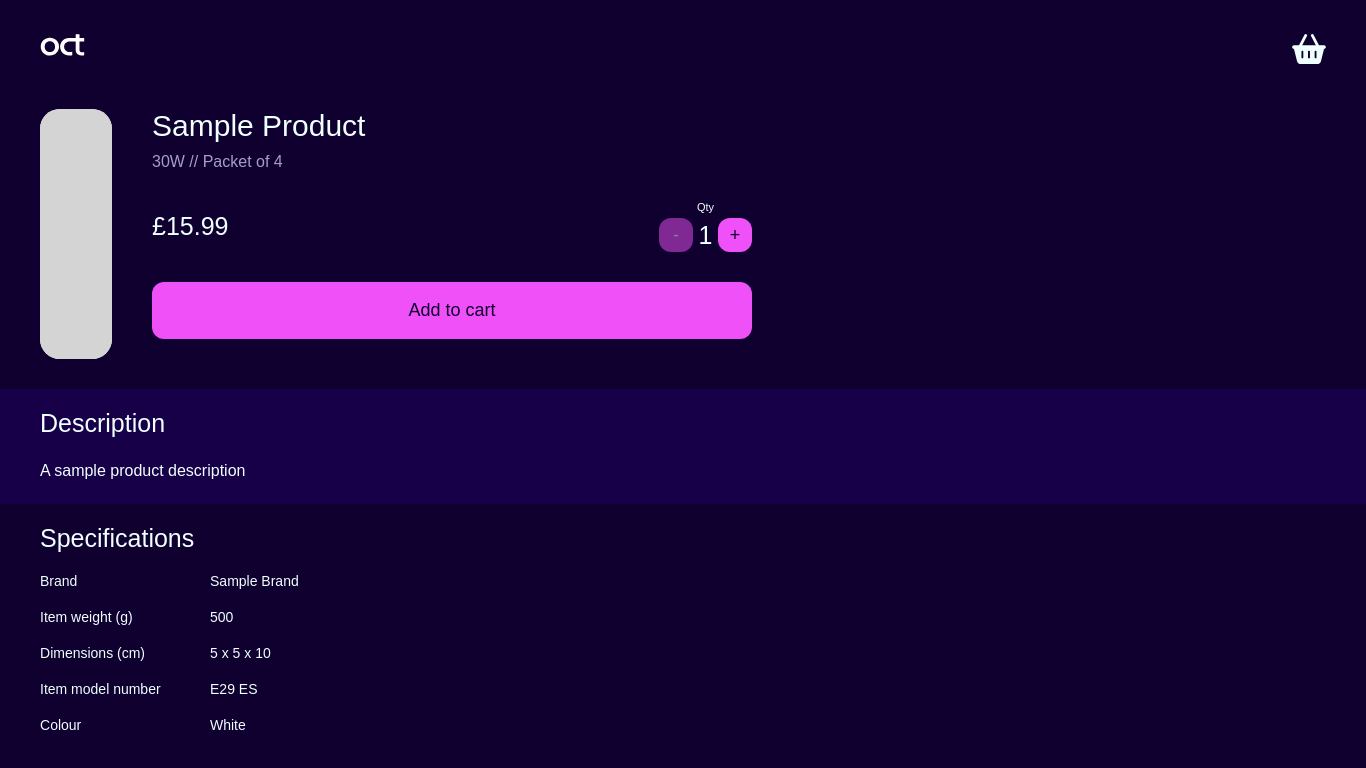
Test: ProductPage test cases › should be able to increase and decrease product quantity
Check: the heading "Sample Product" is shown, box [152,109,366,142]
Check: the text with test id "current-quantity" reads "1", box [698,220,712,248]
Click the button with test id "increase-quantity".
click(735, 235)  # box [718,218,752,252]
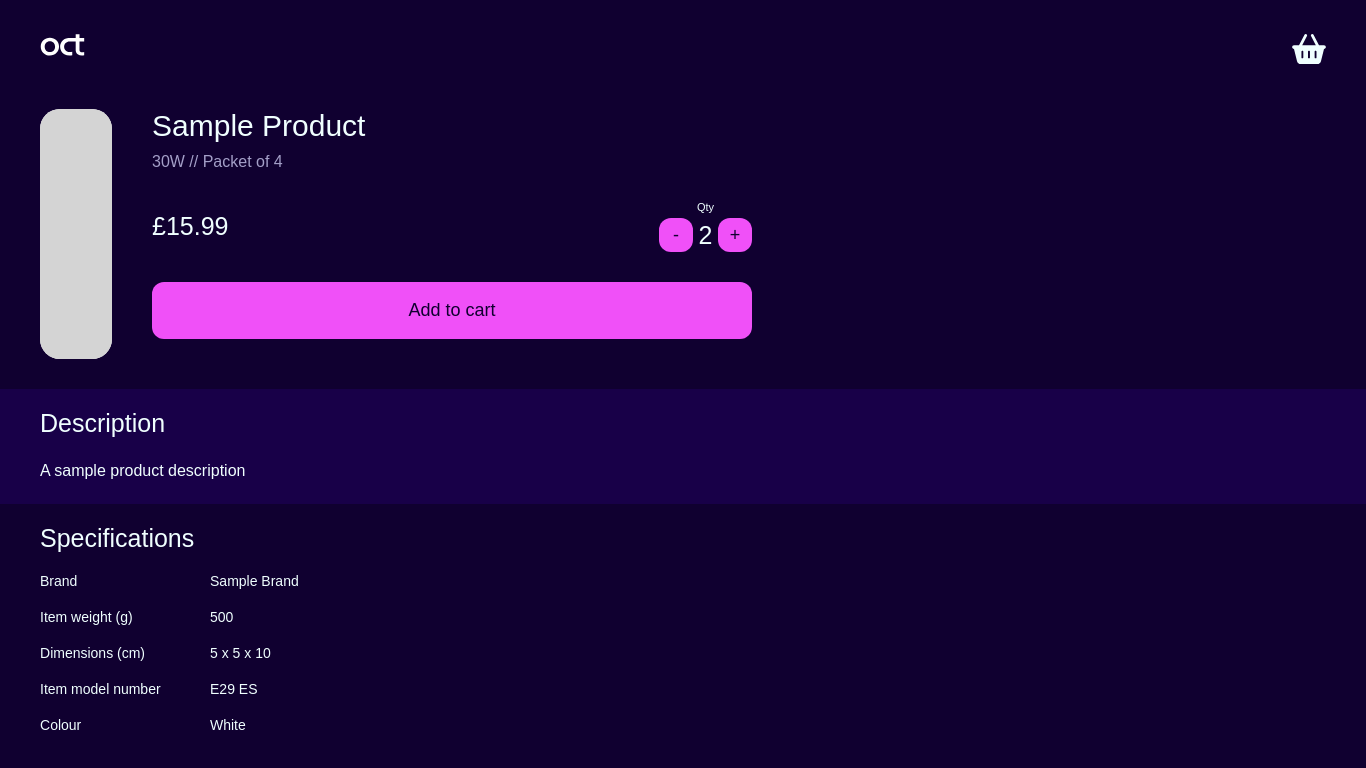
Check: the text with test id "current-quantity" reads "2", box [698,220,712,248]
Click the button with test id "decrease-quantity".
click(676, 235)  # box [659,218,693,252]
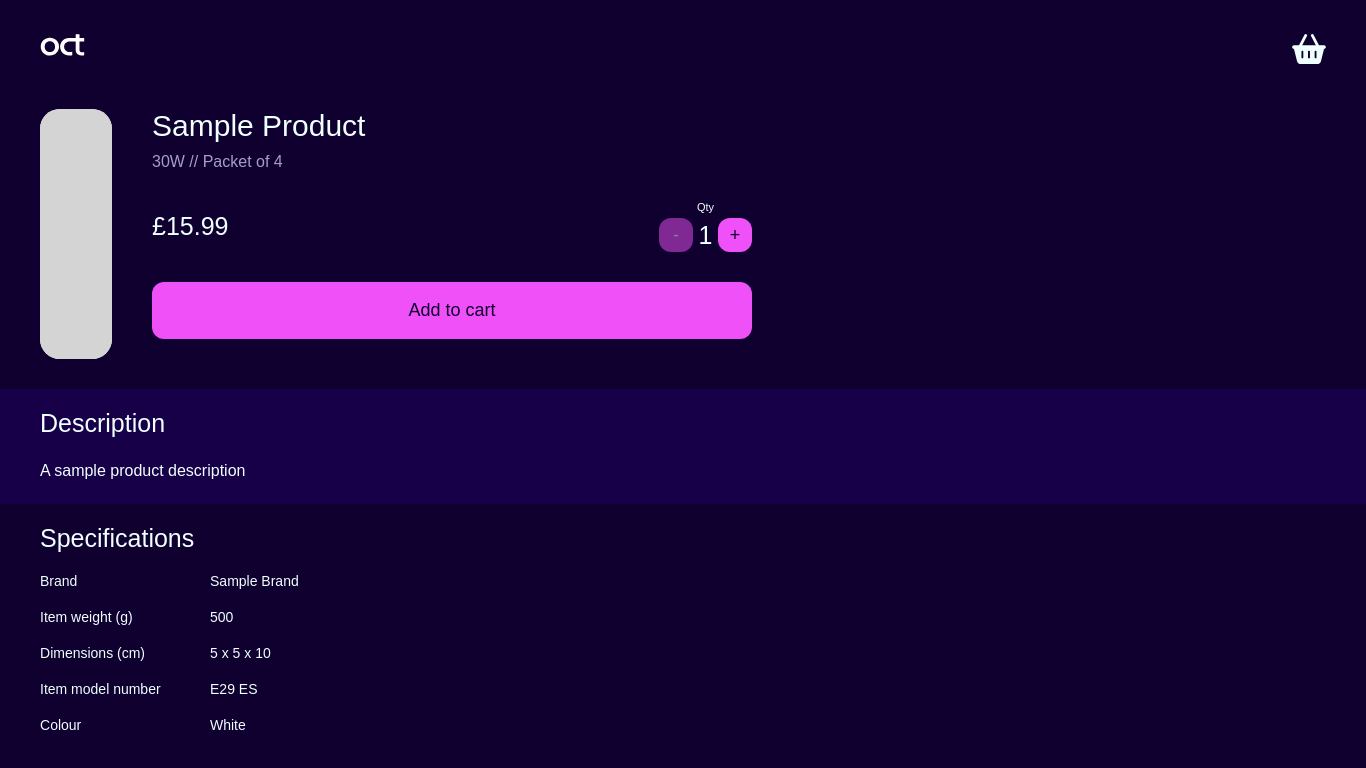
Check: the text with test id "current-quantity" reads "1", box [698,220,712,248]
